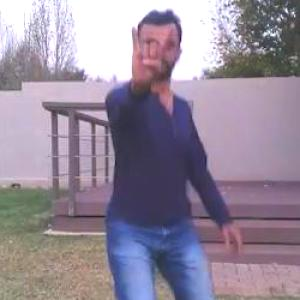takeoff-hand: (118, 23, 178, 90)
